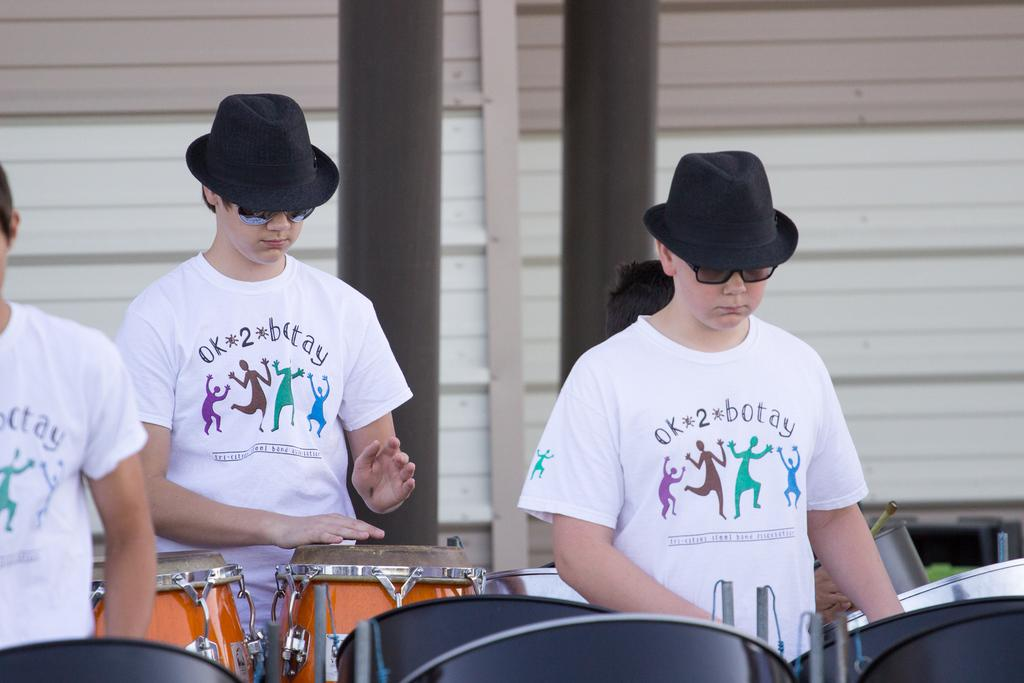Hat: (645, 146, 801, 268), (186, 92, 340, 210)
